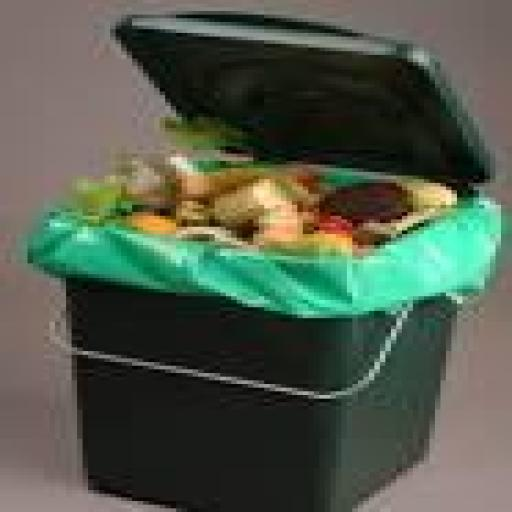poubelle_pleine: (47, 16, 497, 512)
